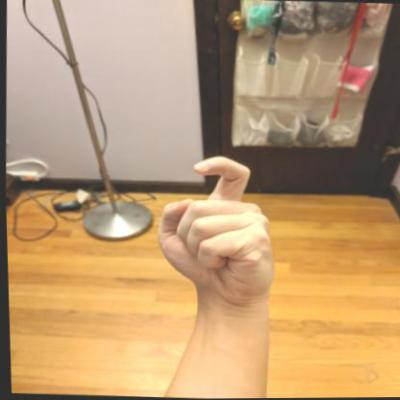hand: (149, 150, 281, 307)
